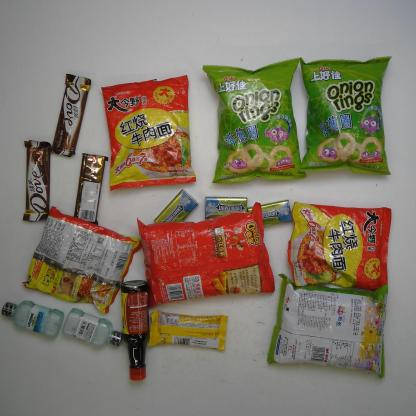Chocolate: (51, 72, 92, 158), (147, 310, 229, 351), (21, 138, 53, 222), (73, 152, 109, 225)
Gum: (154, 188, 199, 224), (248, 199, 293, 227), (204, 196, 248, 219)
Instant Noodles: (21, 205, 143, 314), (100, 74, 197, 192), (285, 201, 392, 292)
Personal Hygiene: (61, 308, 124, 347), (1, 300, 65, 338)
Puffed Food: (136, 201, 276, 309), (202, 56, 308, 184), (266, 272, 389, 380), (298, 55, 394, 176)
Seasoner: (120, 279, 150, 381)
